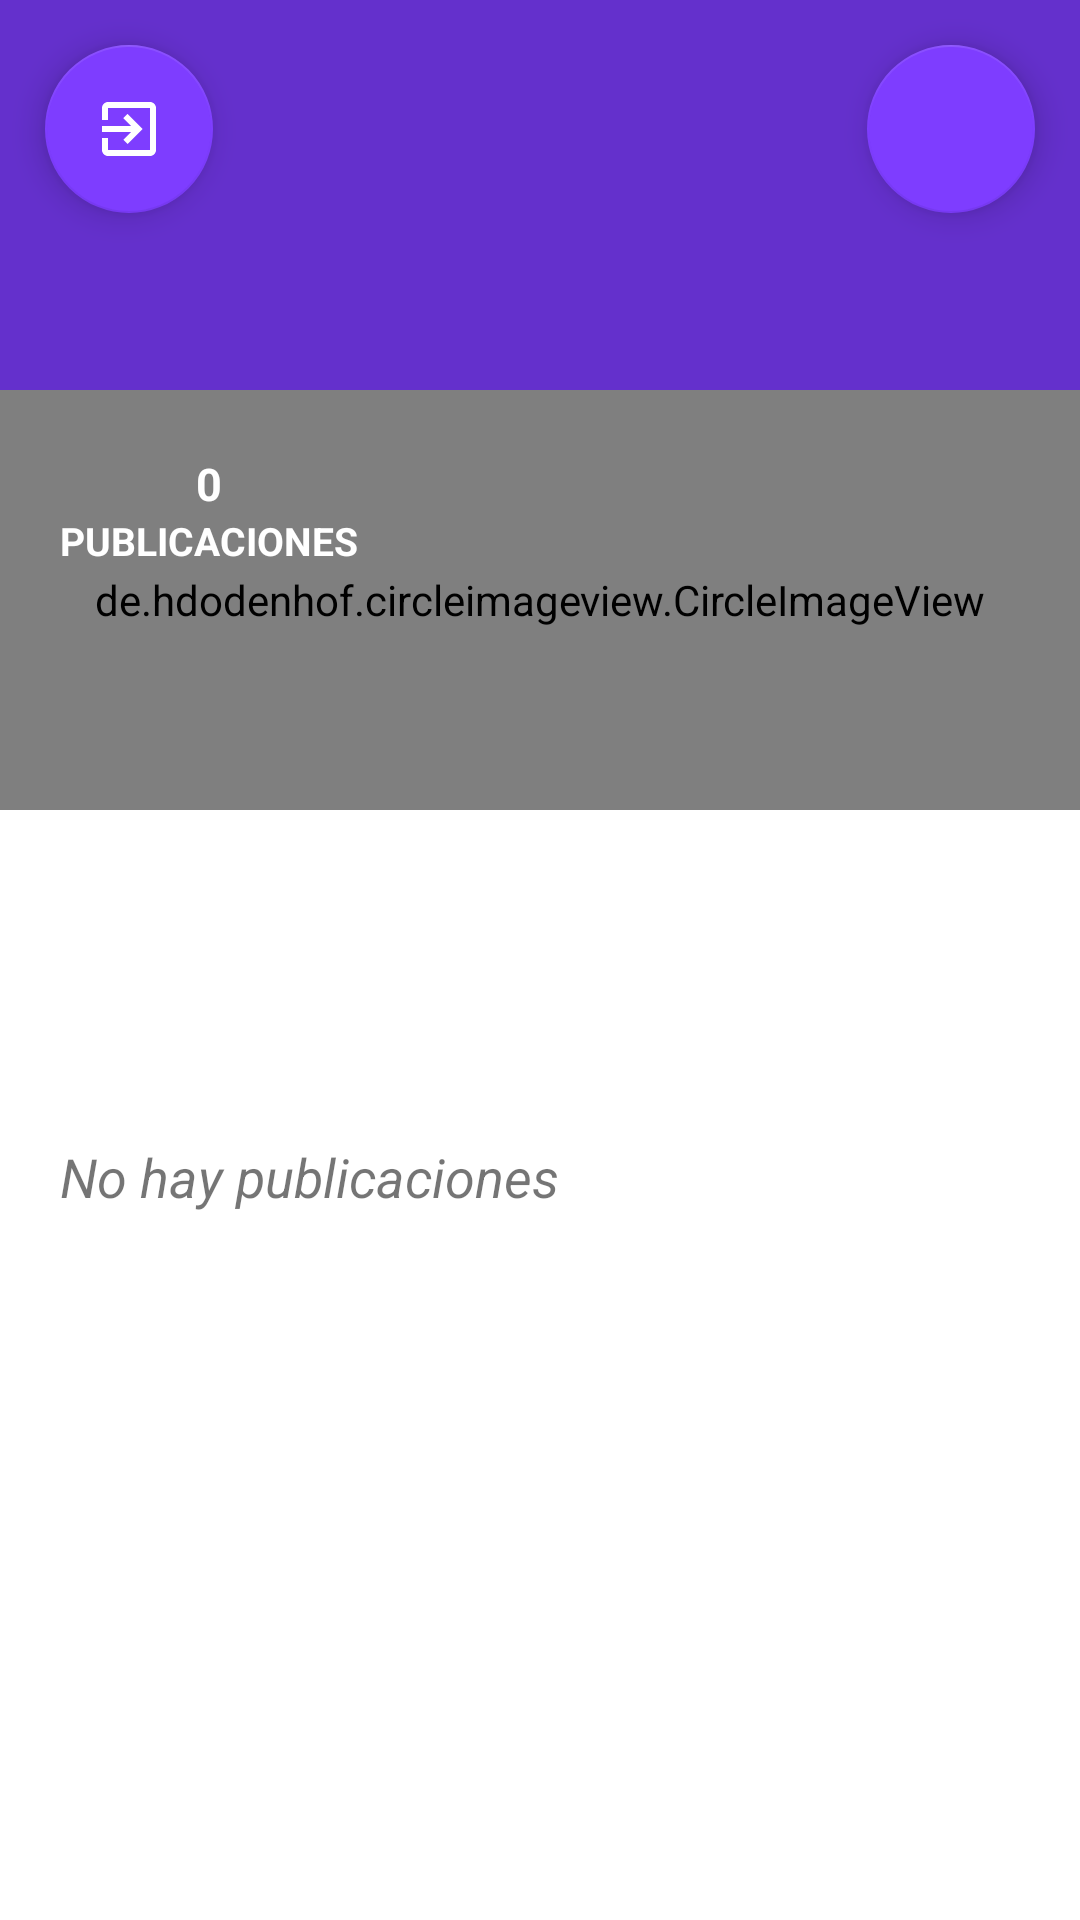

Where to tap for icons on this 1080 × 1920 app screen, as point (x, y):
exit: point (129, 129)
